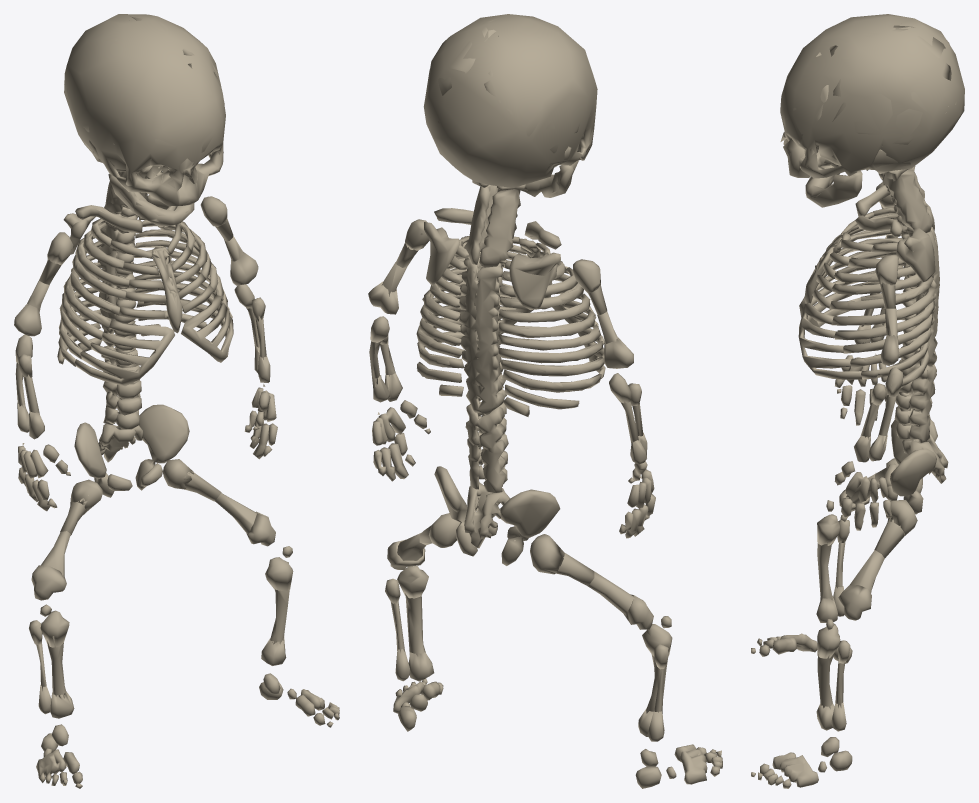
The model's file is pediatric_neonate_female.skeletal.LOD3.glb.
3 renders of one model, left to right at view 1: azimuth 30°, elevation 25°; view 2: azimuth 150°, elevation 25°; view 3: azimuth 270°, elevation 25°, orthographic. The views are drawn at different scales.
Visible parts, largest first — view 1: PEDIATRIC.NEONATE.FEMALE.SKELETAL.CARTILAGE_TRUNK, PEDIATRIC.NEONATE.FEMALE.SKELETAL.CARTILAGE_HEAD, PEDIATRIC.NEONATE.FEMALE.SKELETAL.CARTILAGE_LEGS, PEDIATRIC.NEONATE.FEMALE.SKELETAL.CARTILAGE_ARMS, PEDIATRIC.NEONATE.FEMALE.SKELETAL.RIBS_CORTICAL, PEDIATRIC.NEONATE.FEMALE.SKELETAL.FEMORA_LOWER_CORTICAL, PEDIATRIC.NEONATE.FEMALE.SKELETAL.TIBIAE_CORTICAL, PEDIATRIC.NEONATE.FEMALE.SKELETAL.CRANIUM_CORTICAL, PEDIATRIC.NEONATE.FEMALE.SKELETAL.FEMORA_UPPER_CORTICAL, PEDIATRIC.NEONATE.FEMALE.SKELETAL.RADII_CORTICAL, PEDIATRIC.NEONATE.FEMALE.SKELETAL.HUMERI_LOWER_CORTICAL; view 2: PEDIATRIC.NEONATE.FEMALE.SKELETAL.CARTILAGE_TRUNK, PEDIATRIC.NEONATE.FEMALE.SKELETAL.CARTILAGE_HEAD, PEDIATRIC.NEONATE.FEMALE.SKELETAL.CARTILAGE_LEGS, PEDIATRIC.NEONATE.FEMALE.SKELETAL.CARTILAGE_ARMS, PEDIATRIC.NEONATE.FEMALE.SKELETAL.RIBS_CORTICAL, PEDIATRIC.NEONATE.FEMALE.SKELETAL.CRANIUM_CORTICAL, PEDIATRIC.NEONATE.FEMALE.SKELETAL.FEMORA_LOWER_CORTICAL, PEDIATRIC.NEONATE.FEMALE.SKELETAL.TIBIAE_CORTICAL, PEDIATRIC.NEONATE.FEMALE.SKELETAL.FEMORA_UPPER_CORTICAL, PEDIATRIC.NEONATE.FEMALE.SKELETAL.HUMERI_LOWER_CORTICAL, PEDIATRIC.NEONATE.FEMALE.SKELETAL.FIBULAE_CORTICAL, PEDIATRIC.NEONATE.FEMALE.SKELETAL.ULNAE_CORTICAL (+1 smaller); view 3: PEDIATRIC.NEONATE.FEMALE.SKELETAL.CARTILAGE_HEAD, PEDIATRIC.NEONATE.FEMALE.SKELETAL.CARTILAGE_TRUNK, PEDIATRIC.NEONATE.FEMALE.SKELETAL.CARTILAGE_LEGS, PEDIATRIC.NEONATE.FEMALE.SKELETAL.CARTILAGE_ARMS, PEDIATRIC.NEONATE.FEMALE.SKELETAL.CRANIUM_CORTICAL, PEDIATRIC.NEONATE.FEMALE.SKELETAL.RIBS_CORTICAL, PEDIATRIC.NEONATE.FEMALE.SKELETAL.TIBIAE_CORTICAL, PEDIATRIC.NEONATE.FEMALE.SKELETAL.FEMORA_LOWER_CORTICAL, PEDIATRIC.NEONATE.FEMALE.SKELETAL.FEMORA_UPPER_CORTICAL, PEDIATRIC.NEONATE.FEMALE.SKELETAL.FIBULAE_CORTICAL, PEDIATRIC.NEONATE.FEMALE.SKELETAL.ULNAE_CORTICAL, PEDIATRIC.NEONATE.FEMALE.SKELETAL.RADII_CORTICAL.
Part boxes in pixels (bbox=[...]): PEDIATRIC.NEONATE.FEMALE.SKELETAL.CARTILAGE_TRUNK: bbox=[57, 171, 233, 497]; PEDIATRIC.NEONATE.FEMALE.SKELETAL.CARTILAGE_HEAD: bbox=[64, 14, 225, 226]; PEDIATRIC.NEONATE.FEMALE.SKELETAL.CARTILAGE_LEGS: bbox=[29, 459, 339, 788]; PEDIATRIC.NEONATE.FEMALE.SKELETAL.CARTILAGE_ARMS: bbox=[14, 196, 277, 511]; PEDIATRIC.NEONATE.FEMALE.SKELETAL.RIBS_CORTICAL: bbox=[58, 207, 227, 362]; PEDIATRIC.NEONATE.FEMALE.SKELETAL.FEMORA_LOWER_CORTICAL: bbox=[41, 493, 256, 576]; PEDIATRIC.NEONATE.FEMALE.SKELETAL.TIBIAE_CORTICAL: bbox=[47, 589, 289, 698]; PEDIATRIC.NEONATE.FEMALE.SKELETAL.CRANIUM_CORTICAL: bbox=[64, 15, 224, 205]; PEDIATRIC.NEONATE.FEMALE.SKELETAL.FEMORA_UPPER_CORTICAL: bbox=[60, 471, 221, 535]; PEDIATRIC.NEONATE.FEMALE.SKELETAL.RADII_CORTICAL: bbox=[23, 298, 266, 414]; PEDIATRIC.NEONATE.FEMALE.SKELETAL.HUMERI_LOWER_CORTICAL: bbox=[27, 236, 243, 311]; PEDIATRIC.NEONATE.FEMALE.SKELETAL.CARTILAGE_TRUNK: bbox=[416, 180, 605, 565]; PEDIATRIC.NEONATE.FEMALE.SKELETAL.CARTILAGE_HEAD: bbox=[423, 14, 597, 197]; PEDIATRIC.NEONATE.FEMALE.SKELETAL.CARTILAGE_LEGS: bbox=[385, 513, 722, 788]; PEDIATRIC.NEONATE.FEMALE.SKELETAL.CARTILAGE_ARMS: bbox=[368, 219, 655, 538]; PEDIATRIC.NEONATE.FEMALE.SKELETAL.RIBS_CORTICAL: bbox=[417, 237, 604, 415]; PEDIATRIC.NEONATE.FEMALE.SKELETAL.CRANIUM_CORTICAL: bbox=[427, 18, 593, 166]; PEDIATRIC.NEONATE.FEMALE.SKELETAL.FEMORA_LOWER_CORTICAL: bbox=[397, 532, 635, 615]; PEDIATRIC.NEONATE.FEMALE.SKELETAL.TIBIAE_CORTICAL: bbox=[405, 593, 668, 713]; PEDIATRIC.NEONATE.FEMALE.SKELETAL.FEMORA_UPPER_CORTICAL: bbox=[419, 525, 594, 586]; PEDIATRIC.NEONATE.FEMALE.SKELETAL.HUMERI_LOWER_CORTICAL: bbox=[381, 262, 618, 343]; PEDIATRIC.NEONATE.FEMALE.SKELETAL.FIBULAE_CORTICAL: bbox=[391, 601, 665, 713]; PEDIATRIC.NEONATE.FEMALE.SKELETAL.ULNAE_CORTICAL: bbox=[369, 341, 638, 442]; PEDIATRIC.NEONATE.FEMALE.SKELETAL.CARTILAGE_HEAD: bbox=[780, 14, 964, 207]; PEDIATRIC.NEONATE.FEMALE.SKELETAL.CARTILAGE_TRUNK: bbox=[798, 166, 948, 513]; PEDIATRIC.NEONATE.FEMALE.SKELETAL.CARTILAGE_LEGS: bbox=[751, 458, 917, 788]; PEDIATRIC.NEONATE.FEMALE.SKELETAL.CARTILAGE_ARMS: bbox=[834, 182, 903, 530]; PEDIATRIC.NEONATE.FEMALE.SKELETAL.CRANIUM_CORTICAL: bbox=[782, 15, 956, 172]; PEDIATRIC.NEONATE.FEMALE.SKELETAL.RIBS_CORTICAL: bbox=[829, 209, 933, 380]; PEDIATRIC.NEONATE.FEMALE.SKELETAL.TIBIAE_CORTICAL: bbox=[817, 542, 834, 709]; PEDIATRIC.NEONATE.FEMALE.SKELETAL.FEMORA_LOWER_CORTICAL: bbox=[846, 474, 884, 593]; PEDIATRIC.NEONATE.FEMALE.SKELETAL.FEMORA_UPPER_CORTICAL: bbox=[874, 468, 904, 557]; PEDIATRIC.NEONATE.FEMALE.SKELETAL.FIBULAE_CORTICAL: bbox=[835, 520, 845, 707]; PEDIATRIC.NEONATE.FEMALE.SKELETAL.ULNAE_CORTICAL: bbox=[878, 307, 896, 460]; PEDIATRIC.NEONATE.FEMALE.SKELETAL.RADII_CORTICAL: bbox=[860, 293, 881, 439].
Size of the model in its own units: 0.2147 by 0.4767 by 0.1327.
